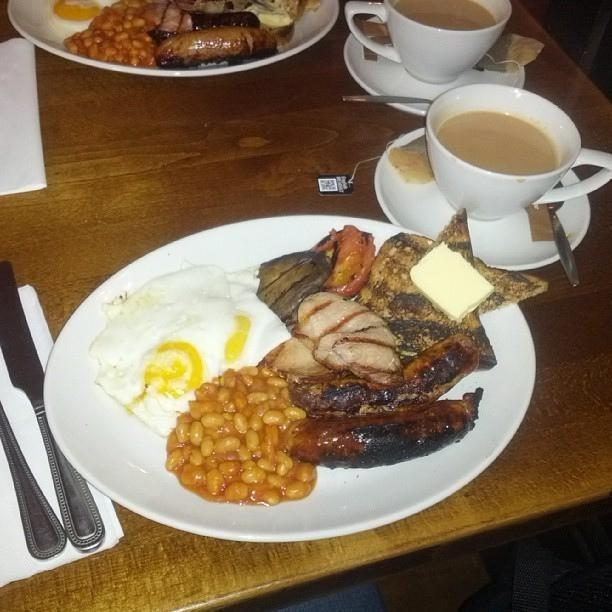cup-handle: (423, 83, 611, 223), (343, 0, 515, 84)
